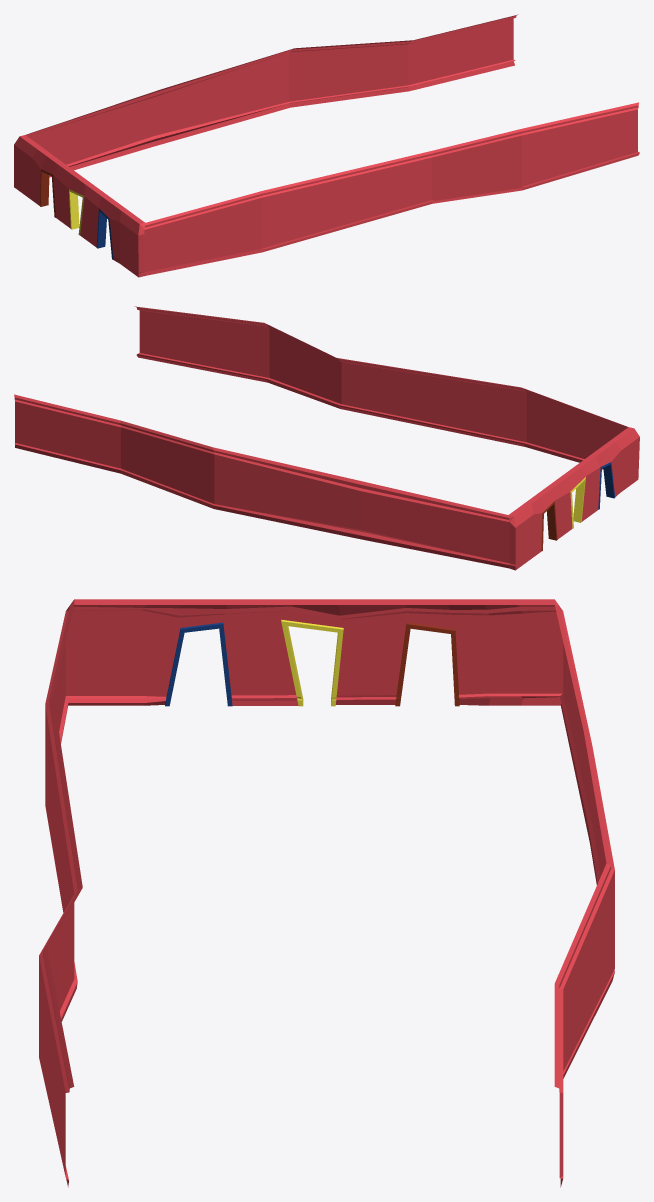
The model's file is Mur_50M.fbx.
3 views of the same model, one above another, from view 1: azimuth 30°, elevation 25°; view 2: azimuth 150°, elevation 25°; view 3: azimuth 270°, elevation 25° (orthographic). The views are drawn at different scales.
Visible parts, largest first — view 1: Mur_Salle50m, Mur_Porte50m; view 2: Mur_Salle50m, Mur_Porte50m; view 3: Mur_Porte50m, Mur_Salle50m.
Part boxes in pixels (x1,y1,x2,y2): Mur_Salle50m: (26,14,639,275); Mur_Porte50m: (14,135,145,277); Mur_Salle50m: (14,306,628,568); Mur_Porte50m: (508,427,639,570); Mur_Porte50m: (65,599,563,706); Mur_Salle50m: (39,605,614,1187).
Size of the model in its own units: 5097 by 584 by 2525.
